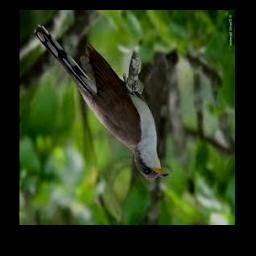Cuckoo: (34, 25, 168, 179)
